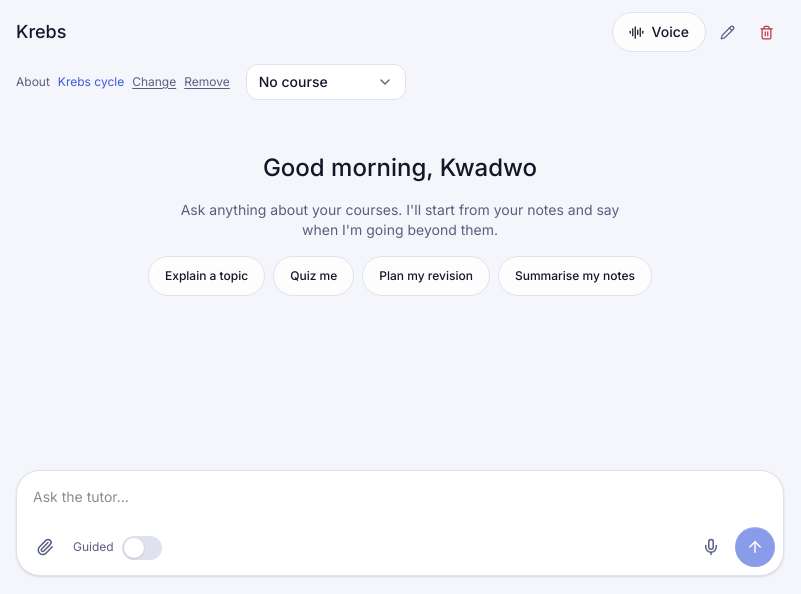
Test: ChatView › a reply that breaks off with an exception says so instead of showing nothing
Step 1. Type "Why?" into the text box named "Message" → x=404, y=501, box [33,479,775,523]
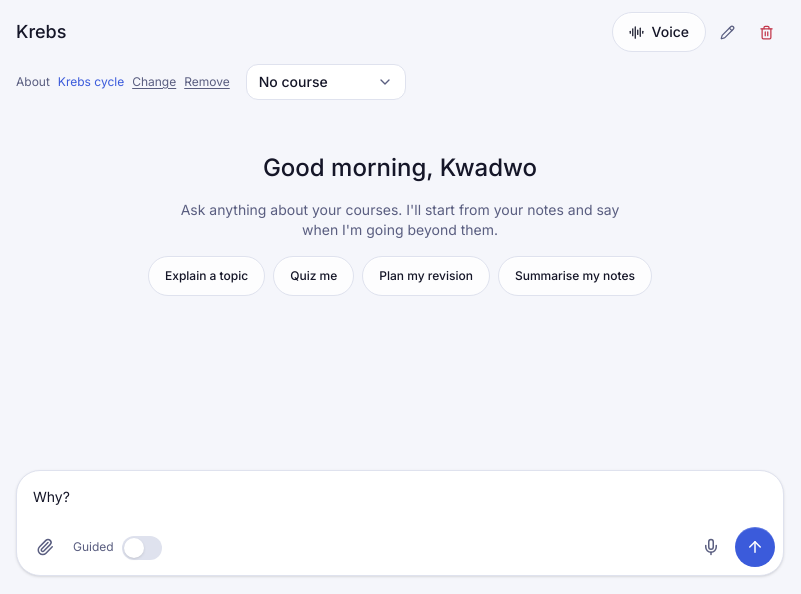
Step 2. Click the button named "Send" → x=755, y=547, box [735,527,775,567]
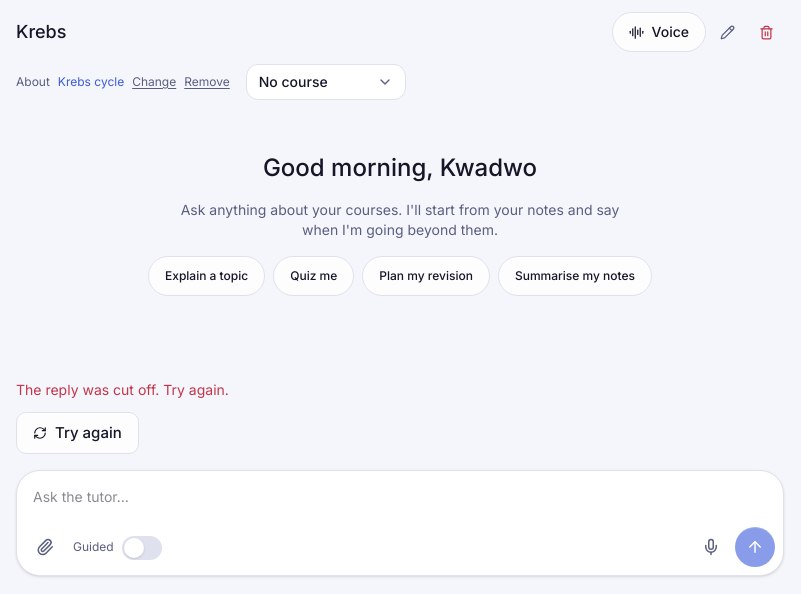
Expected: the message shows "cut off", [16,381,229,398]
